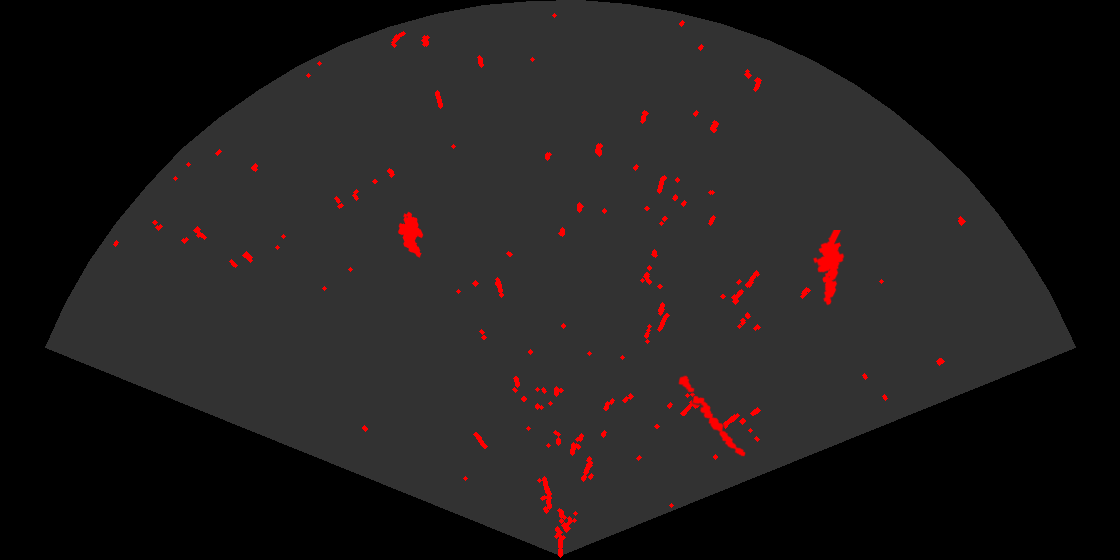AUV: (396, 210, 425, 259)
chain: (677, 374, 747, 458)
frogman: (811, 230, 846, 307)
